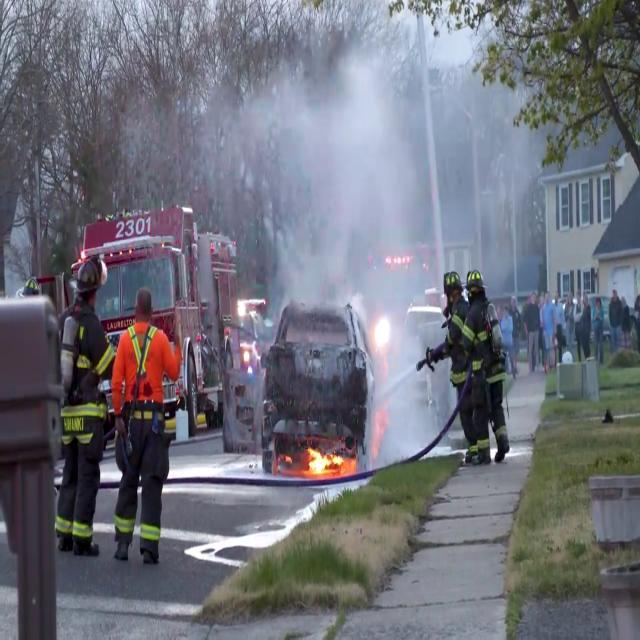Fire: (301, 440, 345, 480)
Smoke: (180, 0, 602, 324)
